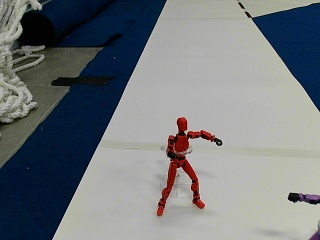pedestrian: (156, 117, 219, 214)
